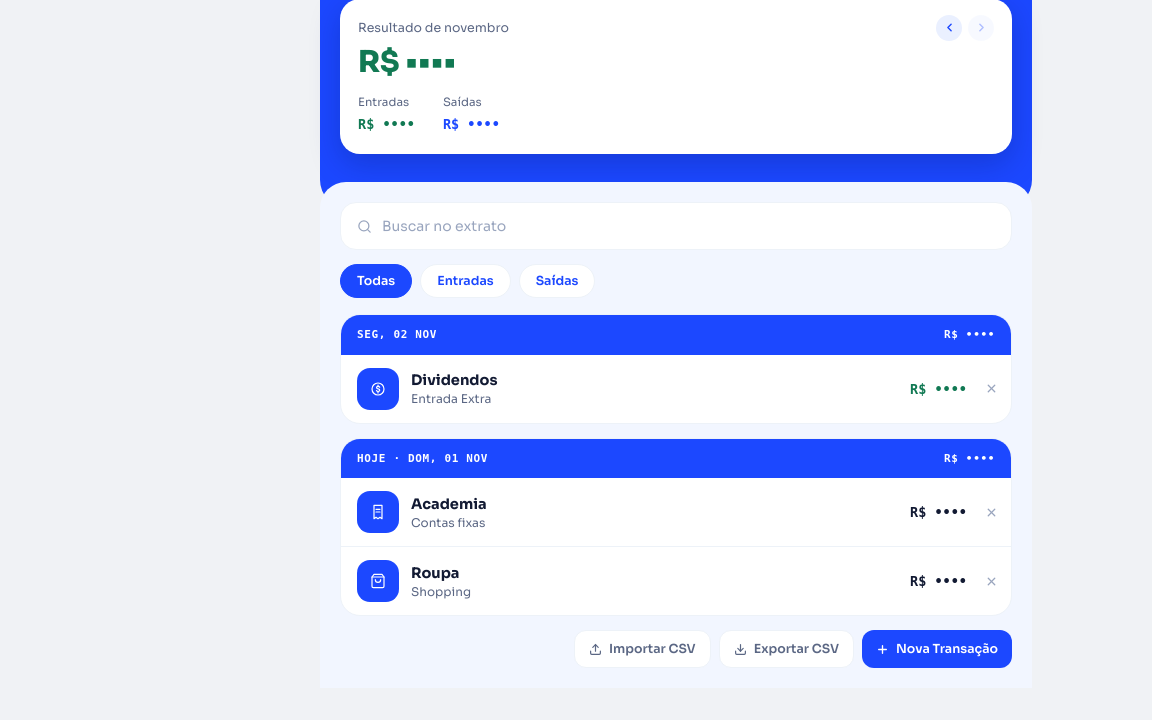
it: Extrato — remover transação › com "ocultar valores" ligado a confirmação também não mostra o valor
(page scrolled)
Expected: the text "Roupa" is shown, x1=411 y1=564 x2=460 y2=582
Click the 3rd button named "Remover transação": [991, 581] box x1=971 y1=547 x2=1011 y2=615
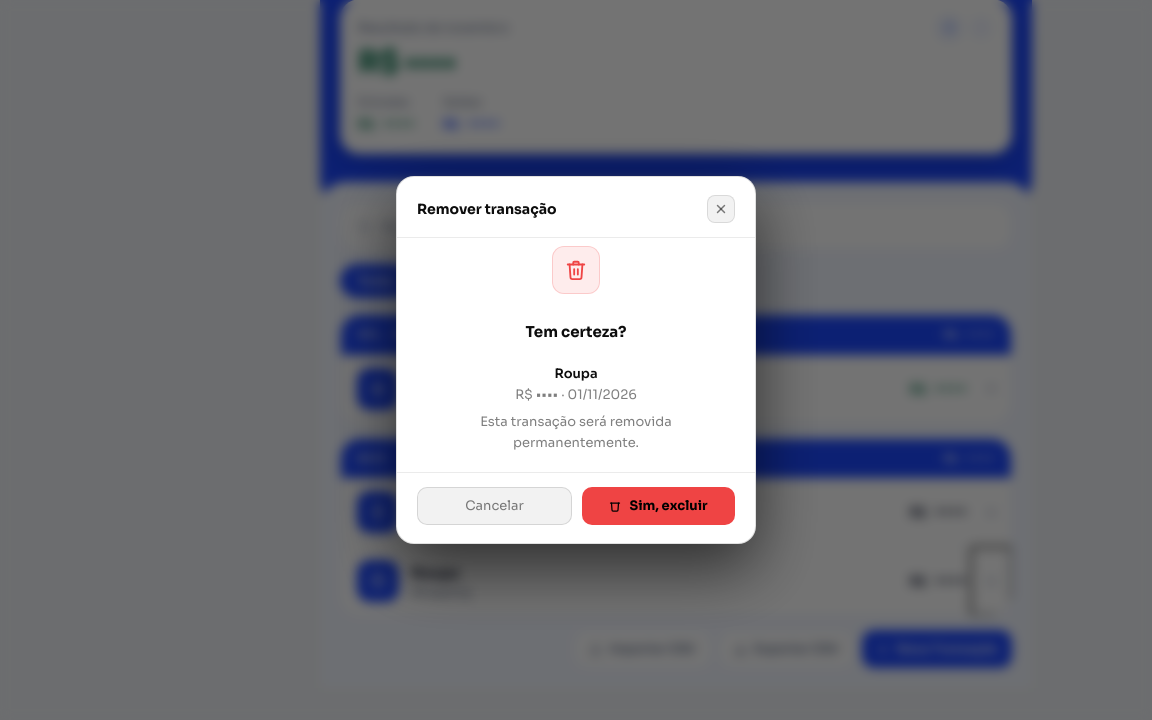
Now the text "R$ •••• · 01/11/2026" is shown, box x1=515 y1=386 x2=637 y2=403
